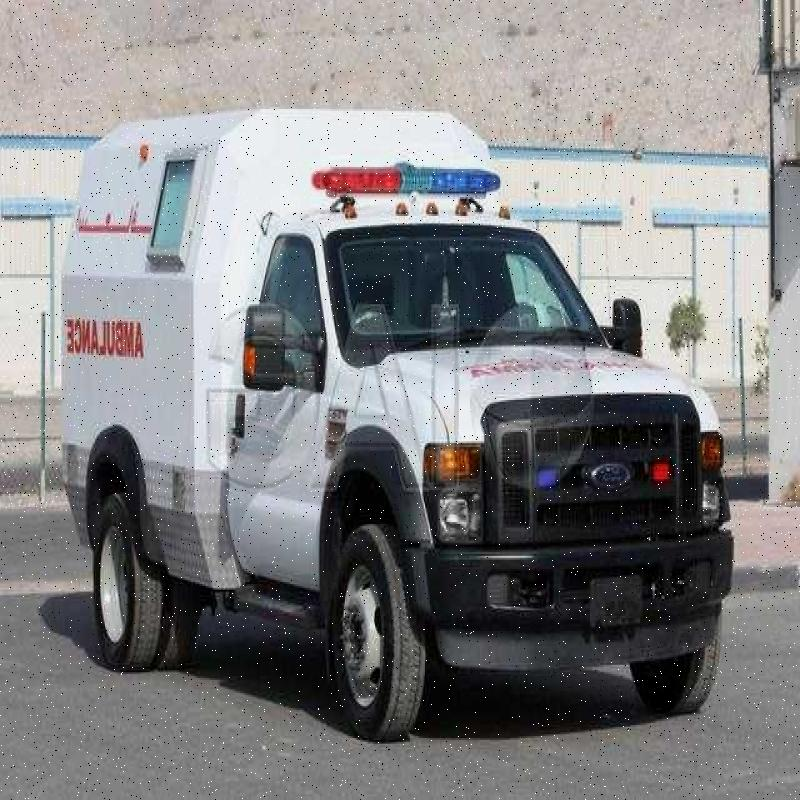AmbulanceSiren: (298, 138, 498, 231)
